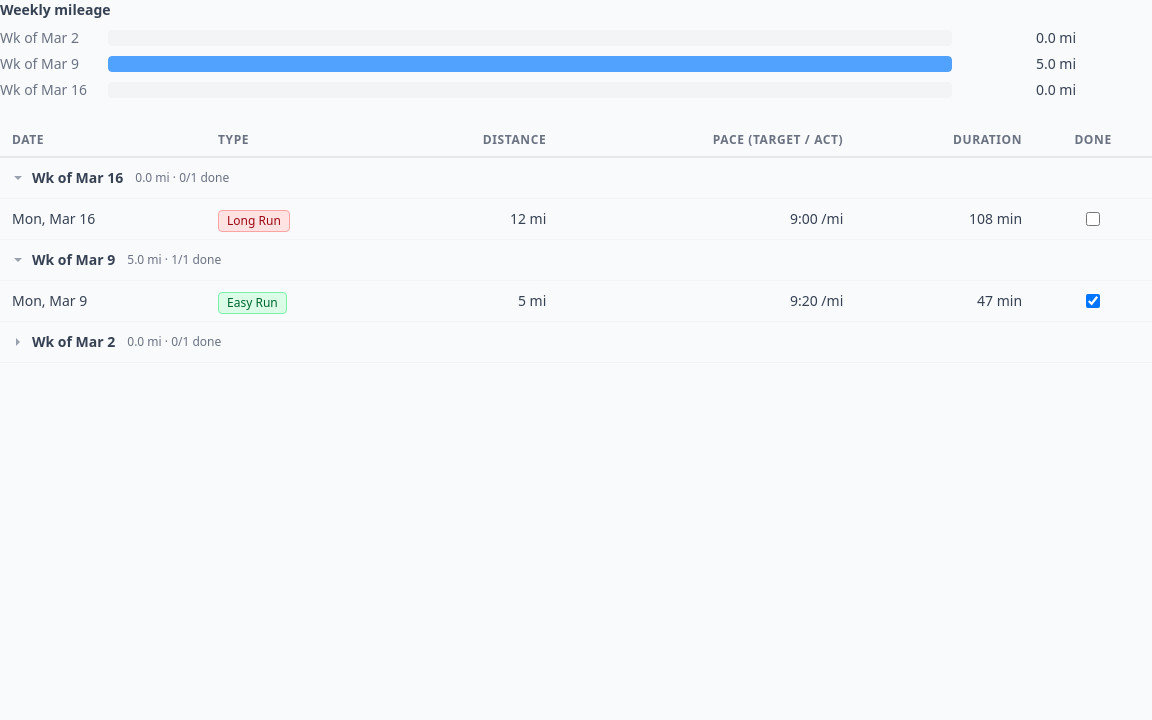
it: WorkoutSummary › opens the edit modal when a workout row is clicked
Check: the table is shown, box [0, 124, 1151, 363]
Step 1. Click the text "12 mi" → [576, 219], box [0, 198, 1151, 240]
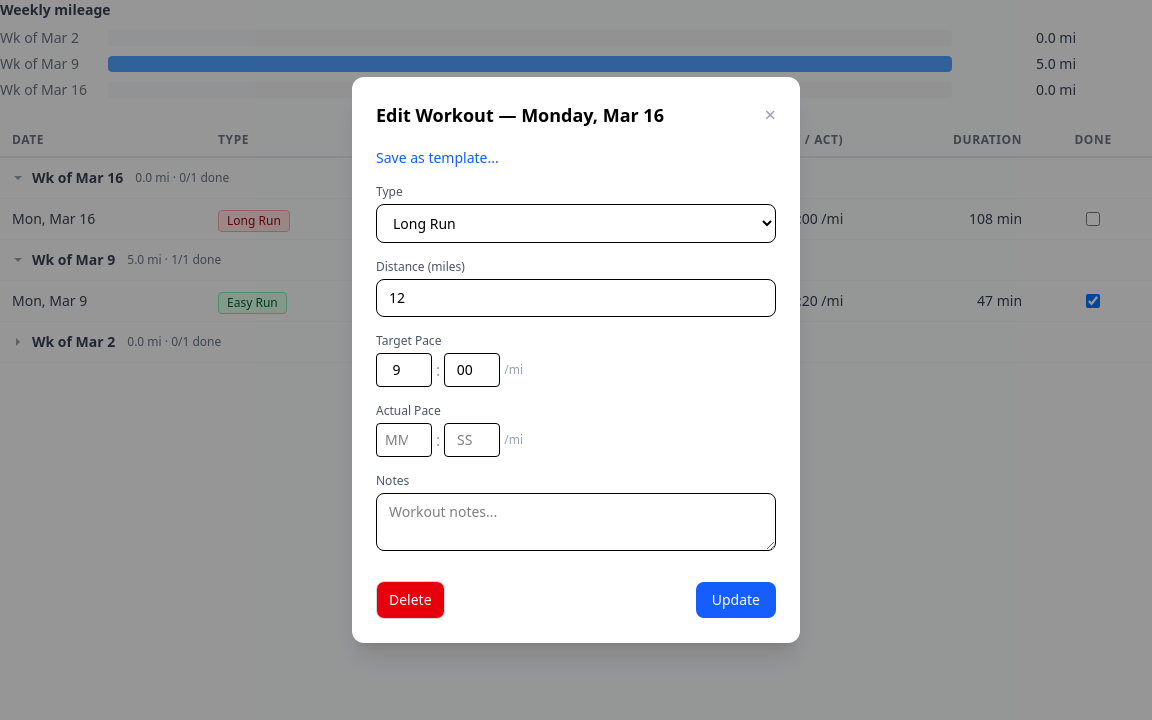
Check: the heading "Edit Workout — Monday, Mar 16" is shown, box [376, 101, 664, 129]
Check: the number field with placeholder "0.0" below "Distance (miles)" holds "12", box [376, 279, 776, 317]
